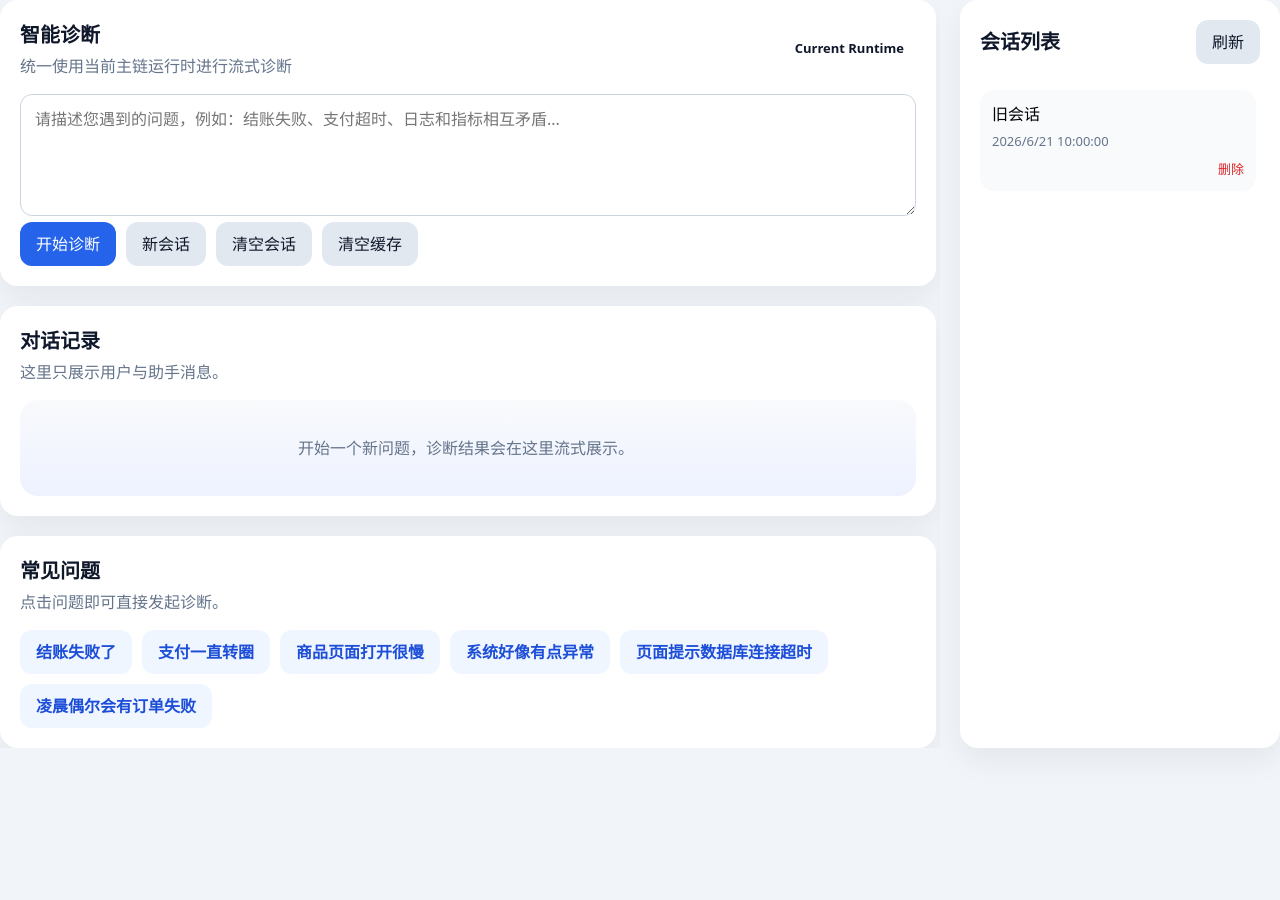
Test: DiagnosisPage › 清空会话后再次诊断会创建新的 sessionId
Step 1. Click the button "旧会话 2026/6/21 10:00:00" → coordinates (1118, 127), box [992, 102, 1244, 152]
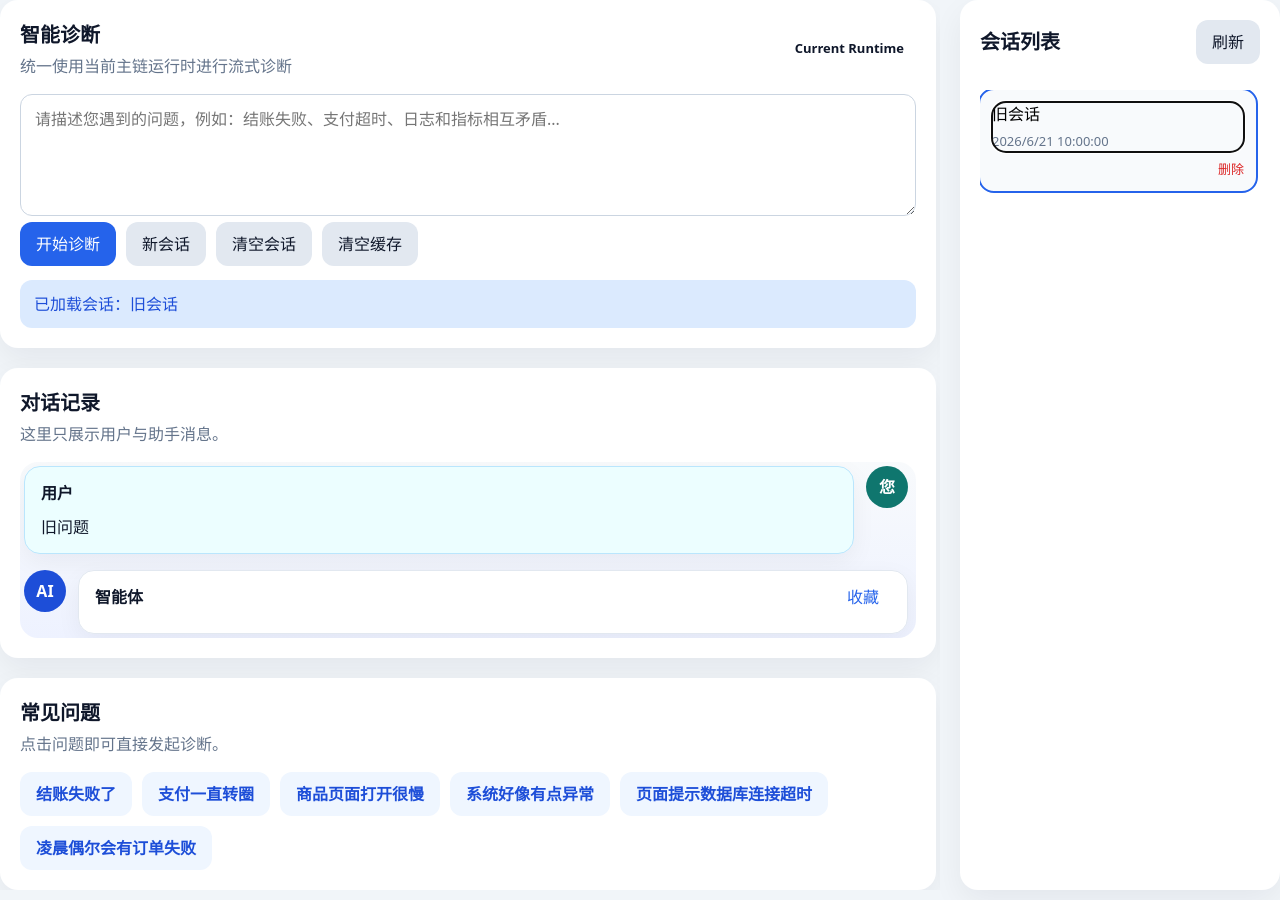
Step 2. Click the button "清空会话" → coordinates (264, 244), box [216, 222, 312, 266]
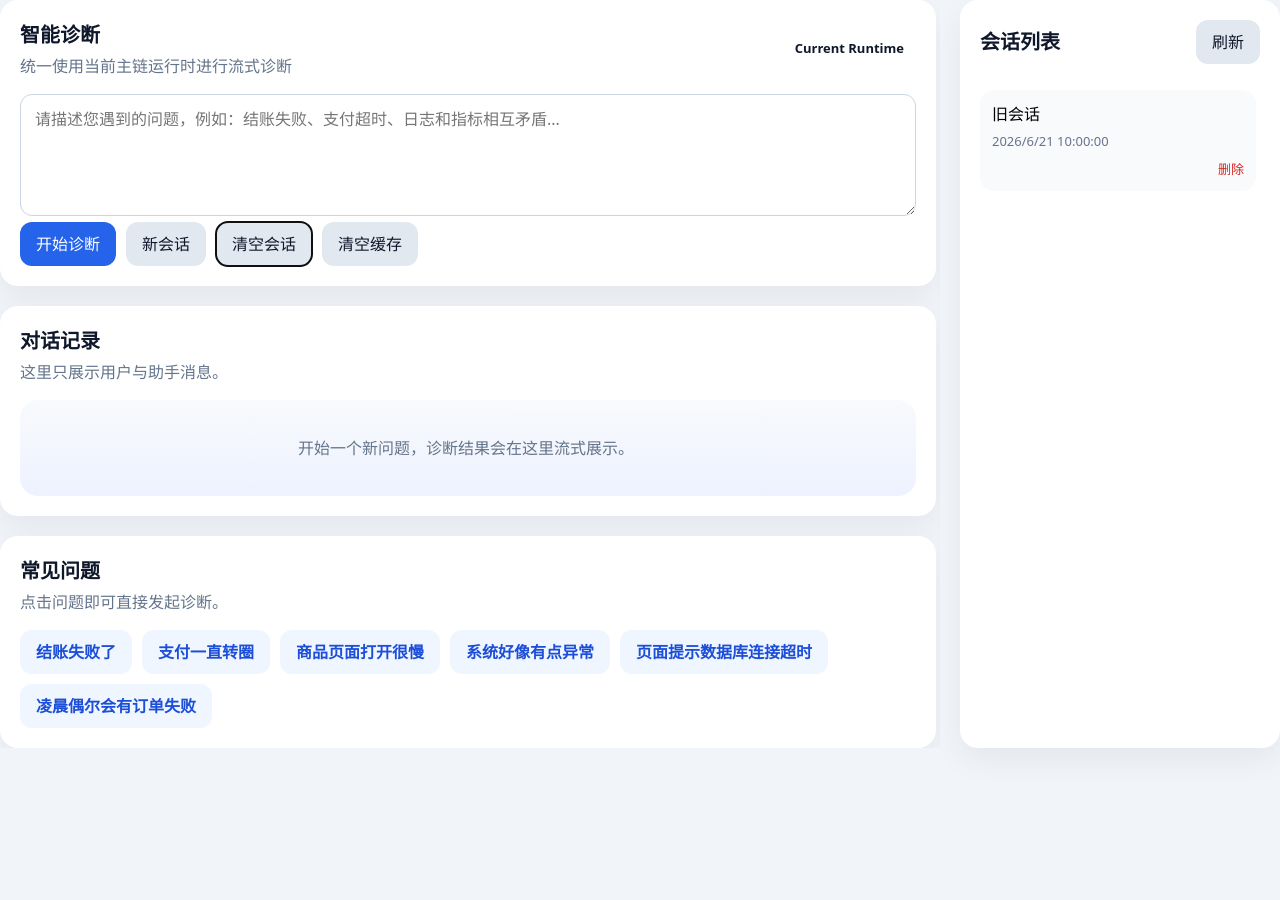
Result: the text "开始一个新问题，诊断结果会在这里流式展示。" is shown at [298, 437, 634, 459]
Step 3. Type "清空后新问题" into the text box with placeholder "请描述您遇到的问题，例如：结账失败、支付超时、日志和指标相互矛盾..." → coordinates (468, 155), box [20, 94, 916, 216]
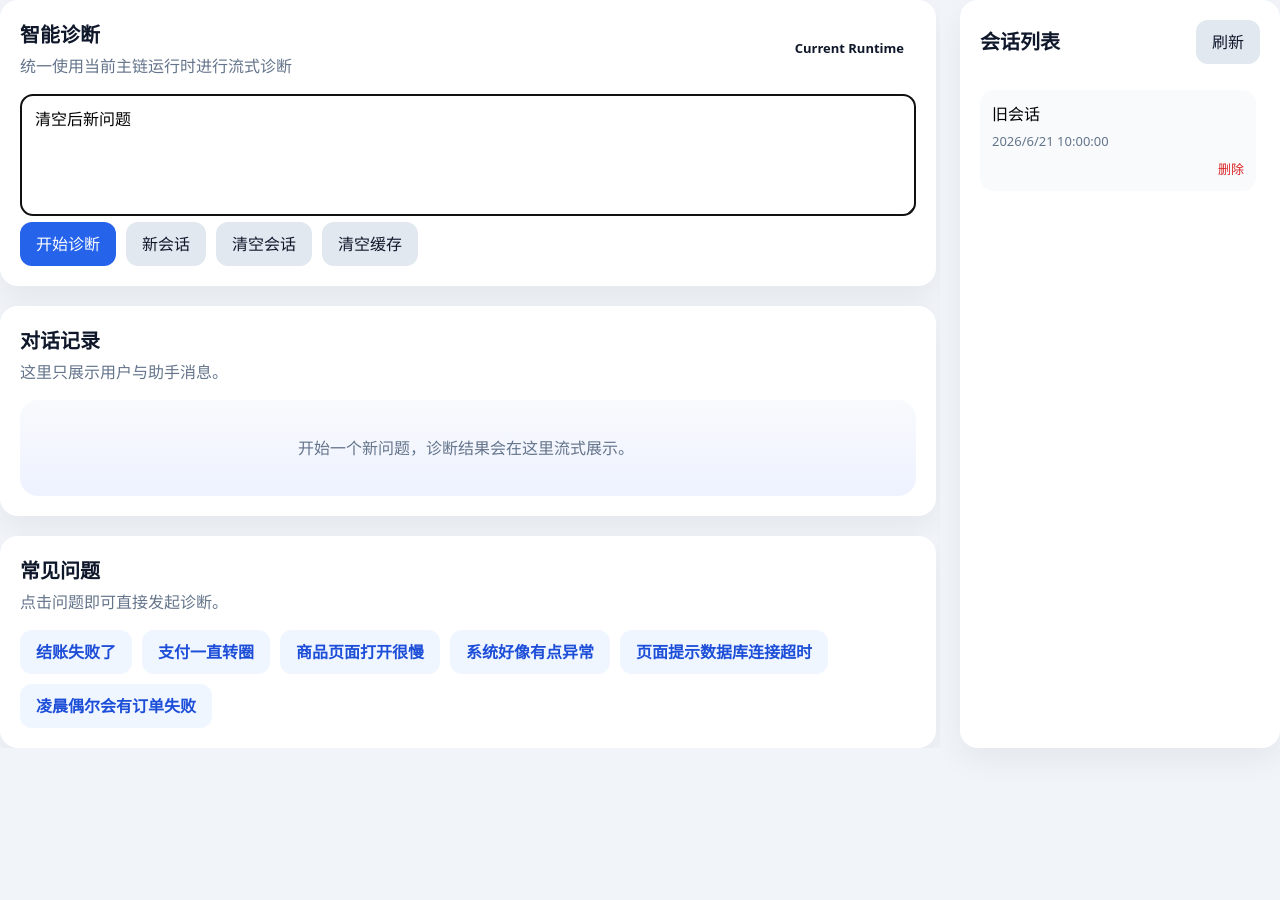
Step 4. Click the button "开始诊断" → coordinates (68, 244), box [20, 222, 116, 266]
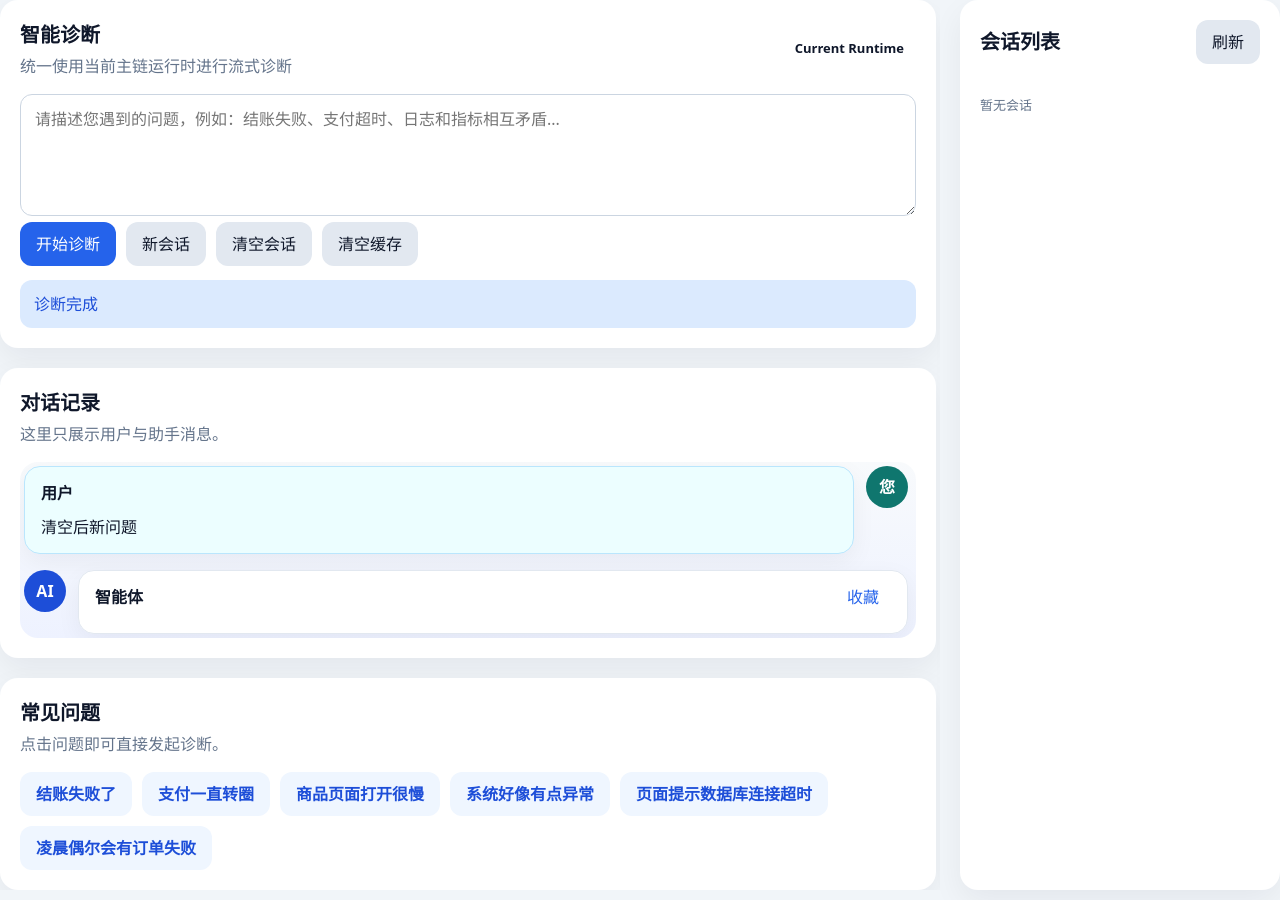
Result: the text "诊断完成" is shown at [20, 280, 916, 328]
